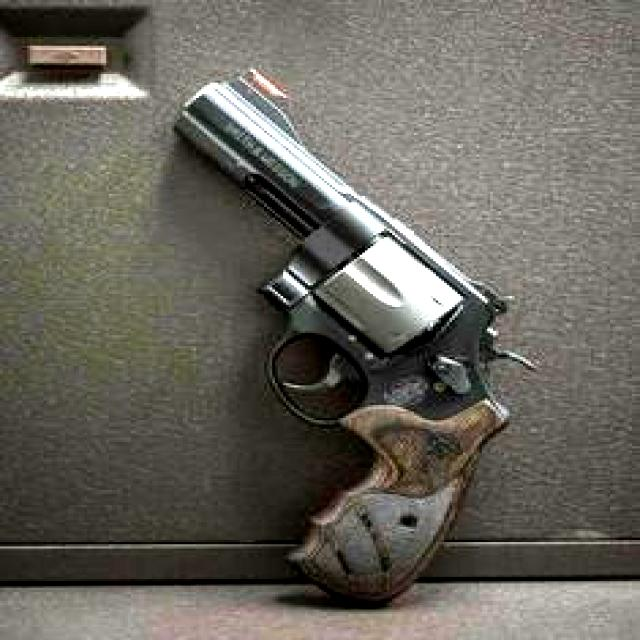revolver: (139, 66, 577, 620)
